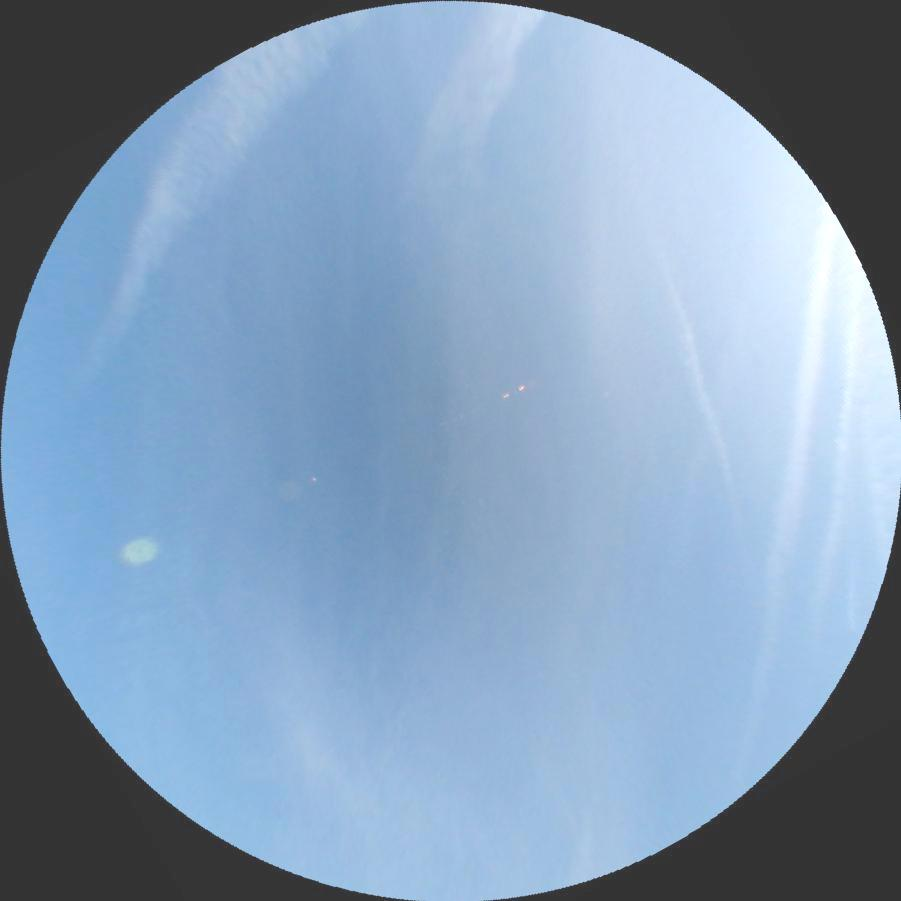contrail veryold: (16, 0, 367, 392), (728, 218, 842, 787), (396, 0, 548, 211), (804, 267, 870, 634)
contrail young: (846, 549, 858, 632)
unknow: (640, 215, 751, 546)
